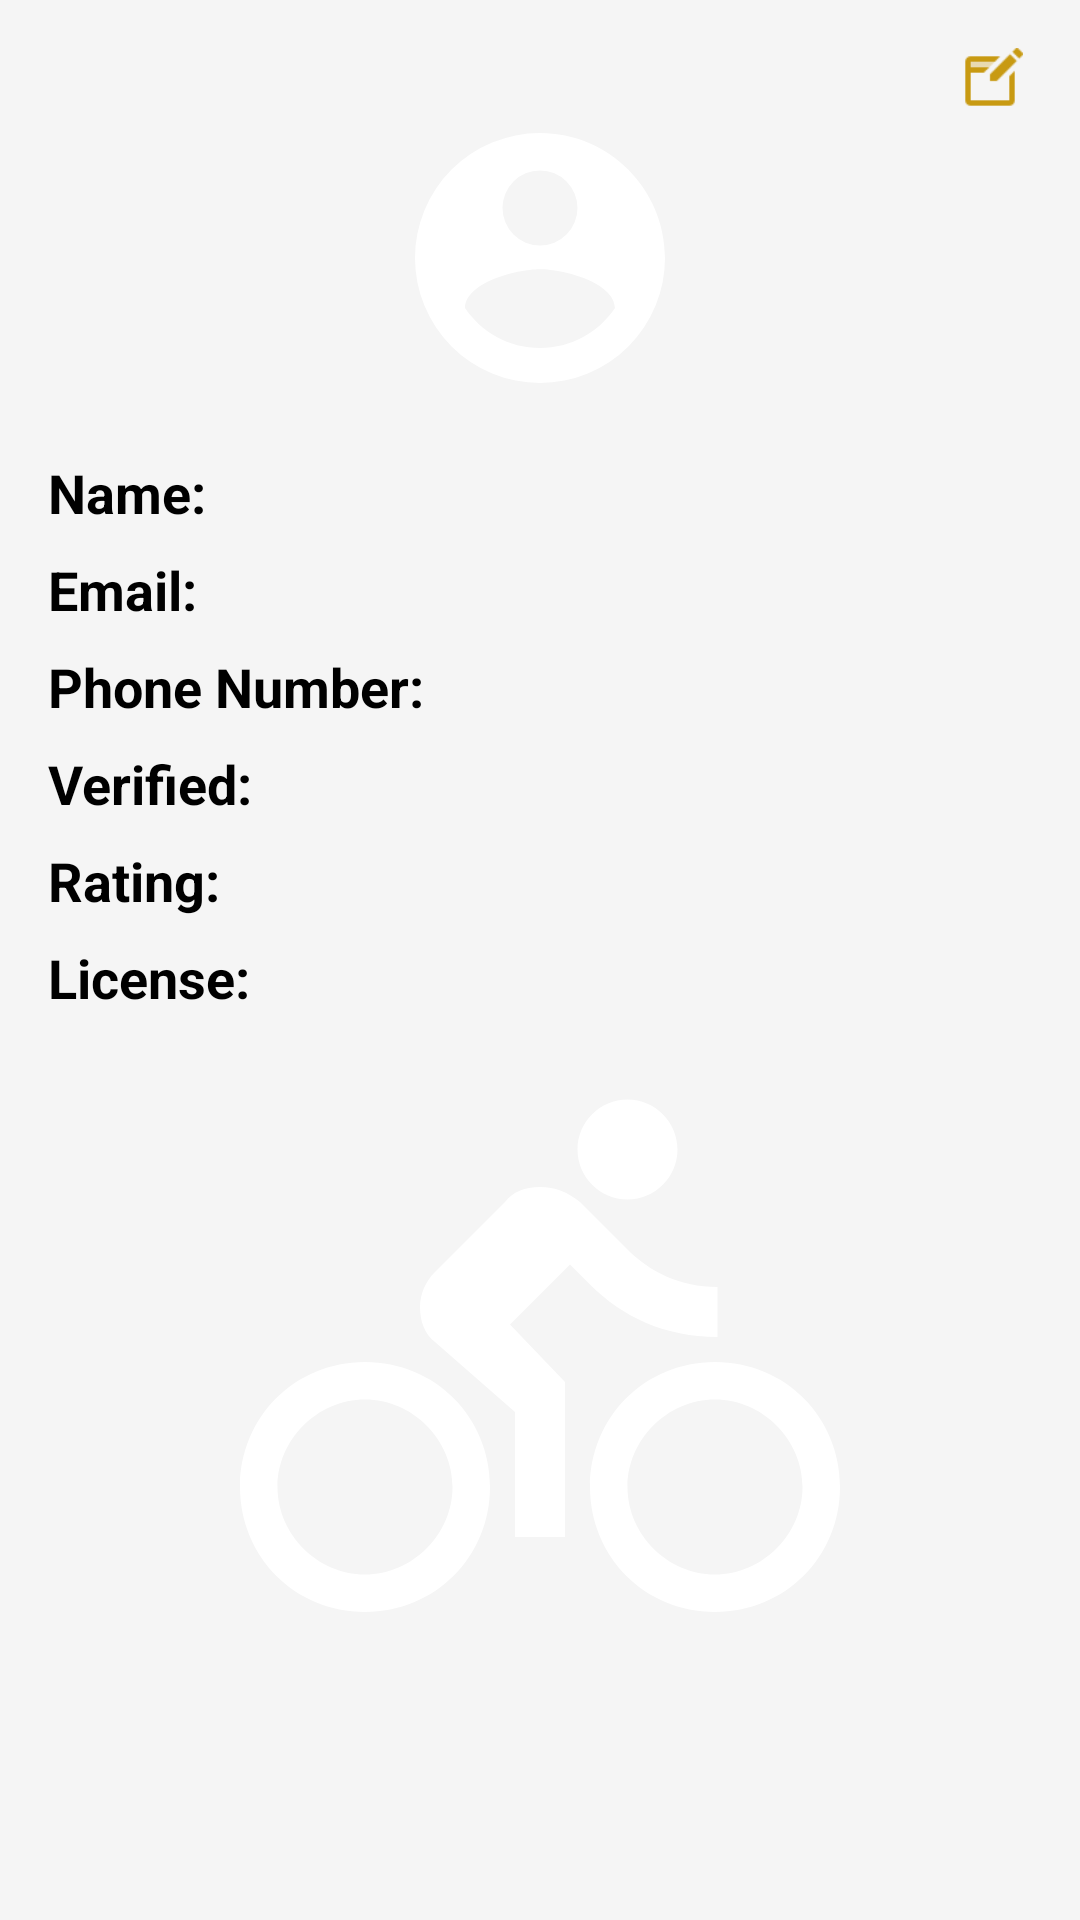

Screen size 1080x1920. Icon name, then its center in pixels as (x,y):
edit profile: (994,77)
